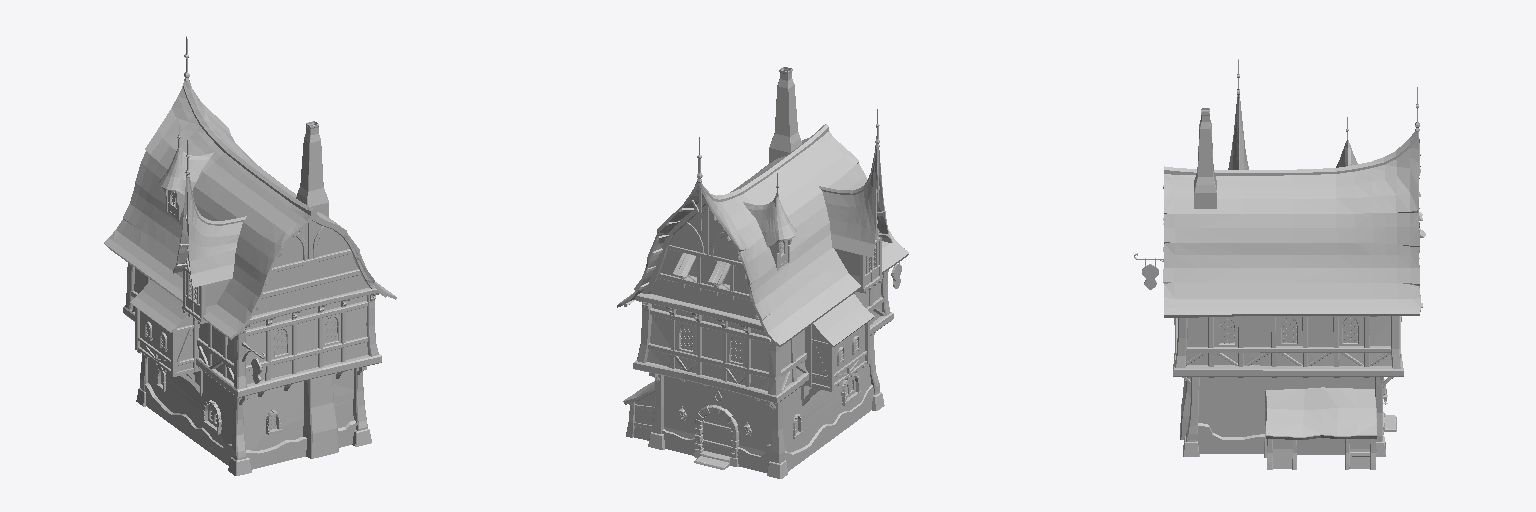
File: Tavern.obj
3 views of the same model, side by side, from view 1: azimuth 30°, elevation 25°; view 2: azimuth 150°, elevation 25°; view 3: azimuth 270°, elevation 25° (orthographic).
Parts seen in each view (by area): view 1: Tavern_Tavern_geo; view 2: Tavern_Tavern_geo; view 3: Tavern_Tavern_geo.
Part boxes in pixels (bbox=[...]): Tavern_Tavern_geo: bbox=[104, 36, 396, 475]; Tavern_Tavern_geo: bbox=[617, 67, 908, 478]; Tavern_Tavern_geo: bbox=[1134, 59, 1425, 469].
Size of the model in its own units: 7.98 by 13.4 by 10.46.